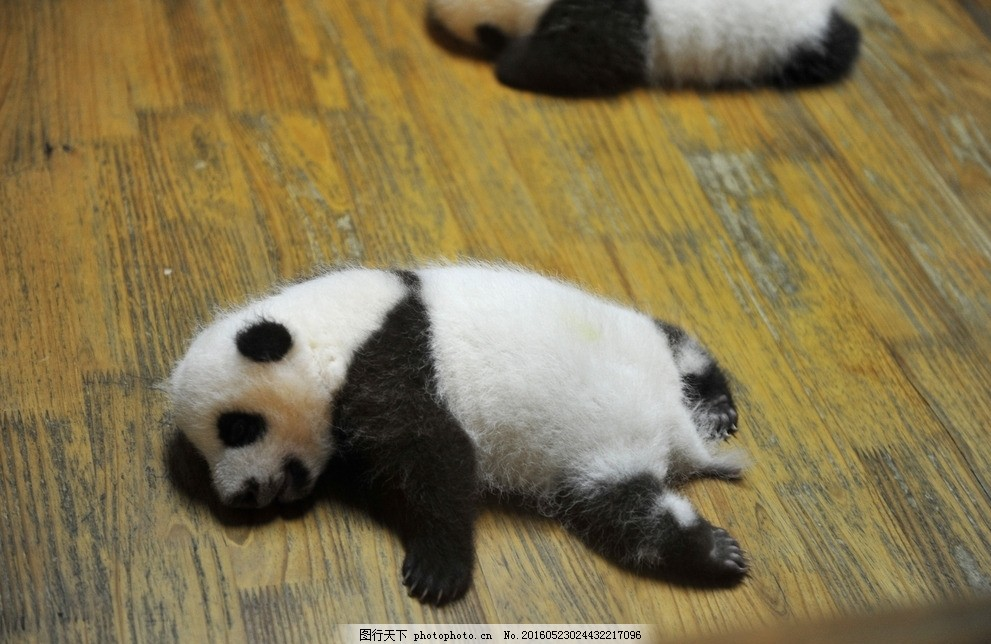panda: (121, 230, 789, 615)
